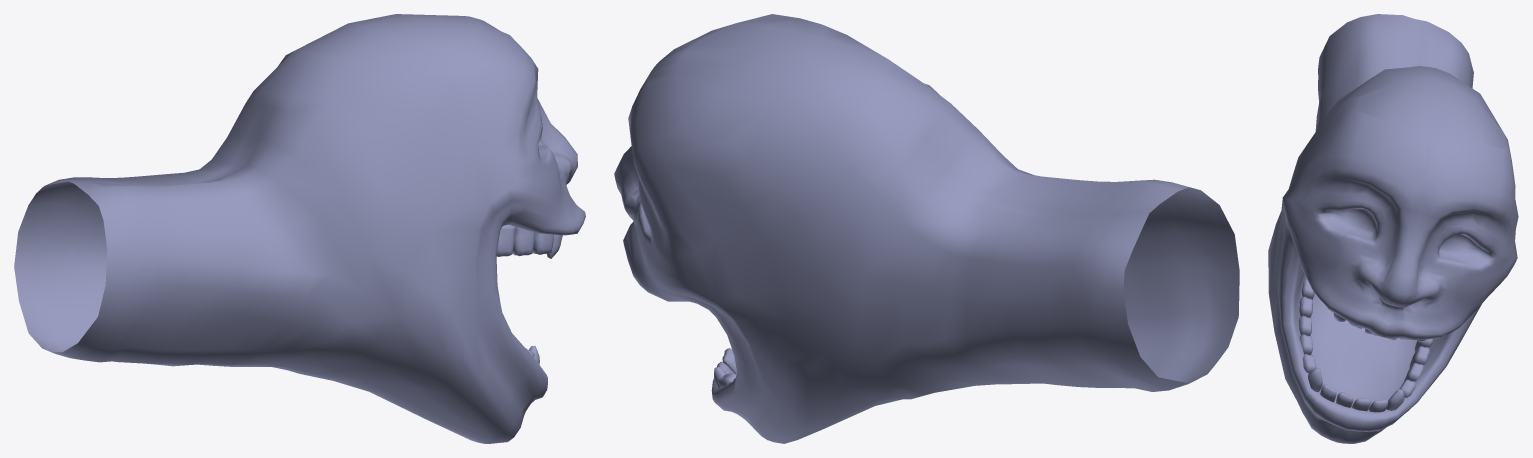
File: Monster_head.fbx
The picture shows the model from 3 angles, left to right: view 1: azimuth 30°, elevation 25°; view 2: azimuth 150°, elevation 25°; view 3: azimuth 270°, elevation 25°; orthographic projection. The views are drawn at different scales.
Visible parts, largest first — view 1: Head; view 2: Head; view 3: Head.
Part boxes in pixels (bbox=[...]): Head: bbox=[14, 14, 585, 443]; Head: bbox=[614, 14, 1239, 443]; Head: bbox=[1268, 14, 1518, 443].
Size of the model in its own units: 5.24 by 3.72 by 2.53.
